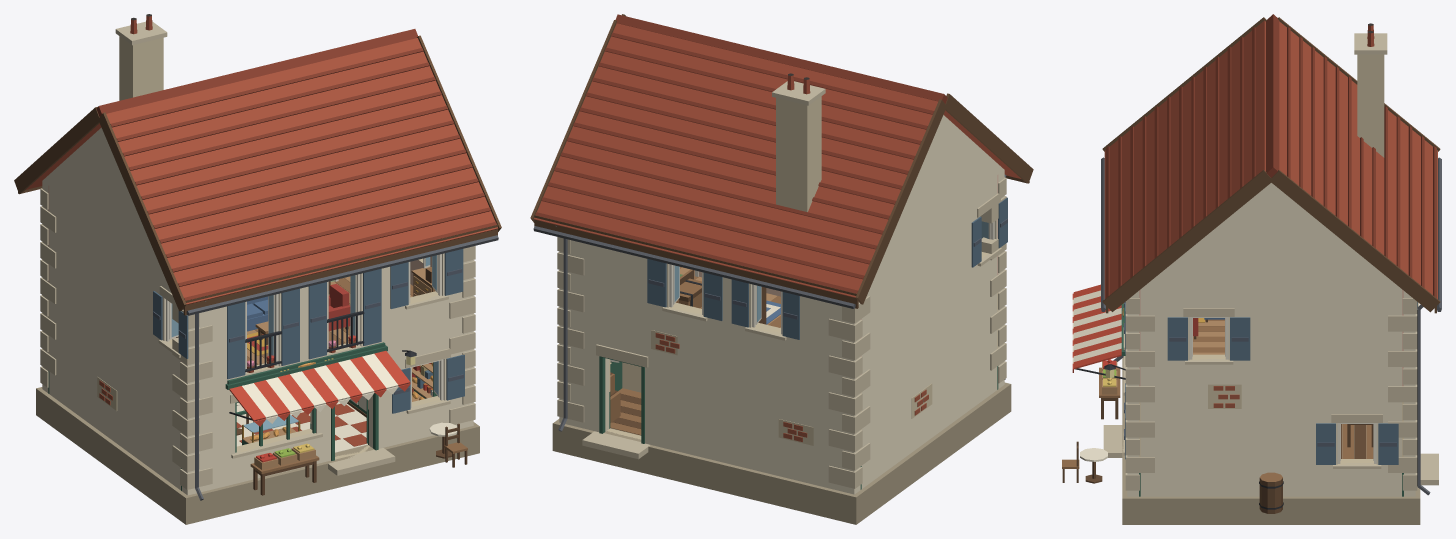
File: townhouse.glb
3 renders of one model, left to right at view 1: azimuth 30°, elevation 25°; view 2: azimuth 150°, elevation 25°; view 3: azimuth 270°, elevation 25°, orthographic. The views are drawn at different scales.
Parts seen in each view (by area): view 1: LOD0; view 2: LOD0; view 3: LOD0.
Part boxes in pixels (bbox=[...]): LOD0: bbox=[14, 14, 501, 524]; LOD0: bbox=[530, 14, 1033, 524]; LOD0: bbox=[1062, 14, 1441, 524].
Size of what is drawn, in the model's own units: 9.61 by 11.13 by 9.74.
Materials: 1 (1 with a texture image).
